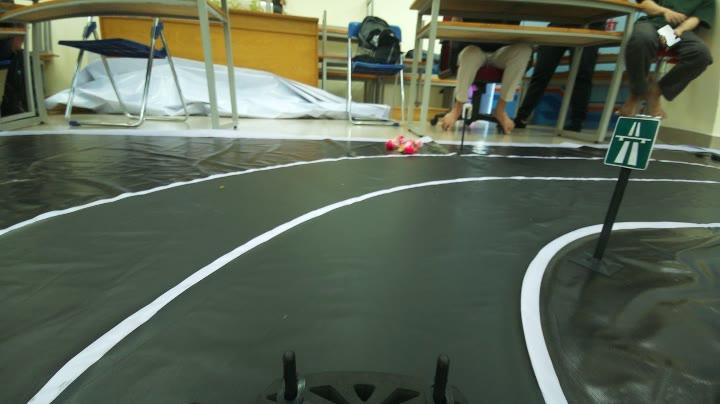highway_entry: (606, 110, 660, 176)
